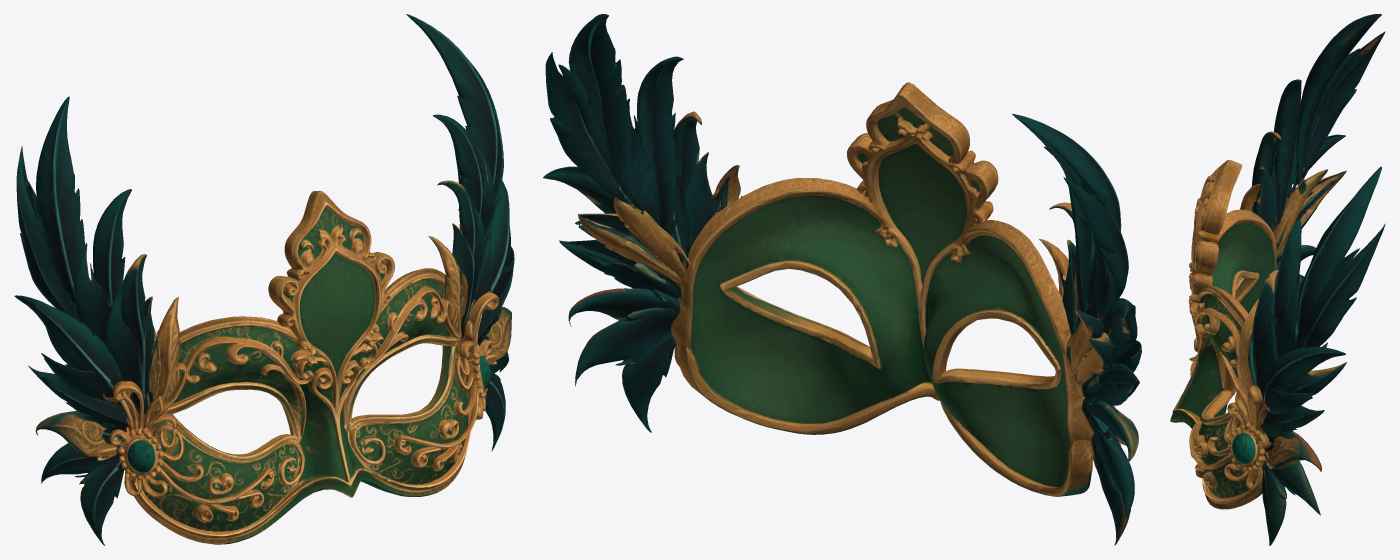
The model's file is masquerade-mask.glb.
3 views of the same model, side by side, from view 1: azimuth 30°, elevation 25°; view 2: azimuth 150°, elevation 25°; view 3: azimuth 270°, elevation 25° (orthographic). The views are drawn at different scales.
Parts seen in each view (by area): view 1: mask; view 2: mask; view 3: mask.
Boxes of the visible parts, <box> form: mask: <box>14,14,514,545</box>; mask: <box>543,14,1141,545</box>; mask: <box>1170,14,1385,545</box>.
Bounding box in the file's own units: 2 × 1.57 × 0.832.
1 material, 1 textured.
